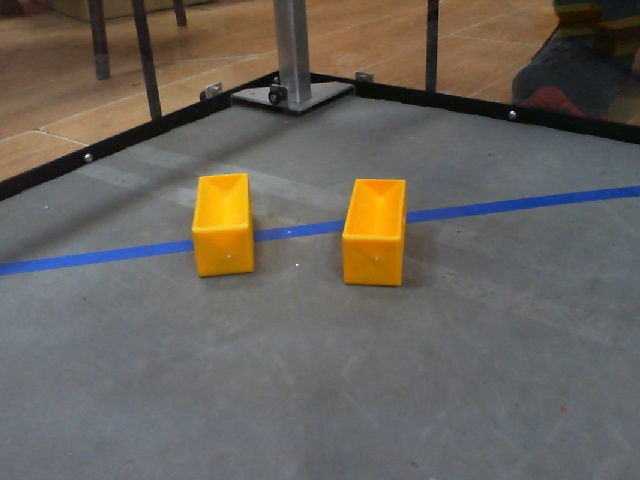YellowSample: (334, 174, 412, 289), (191, 169, 261, 282)
